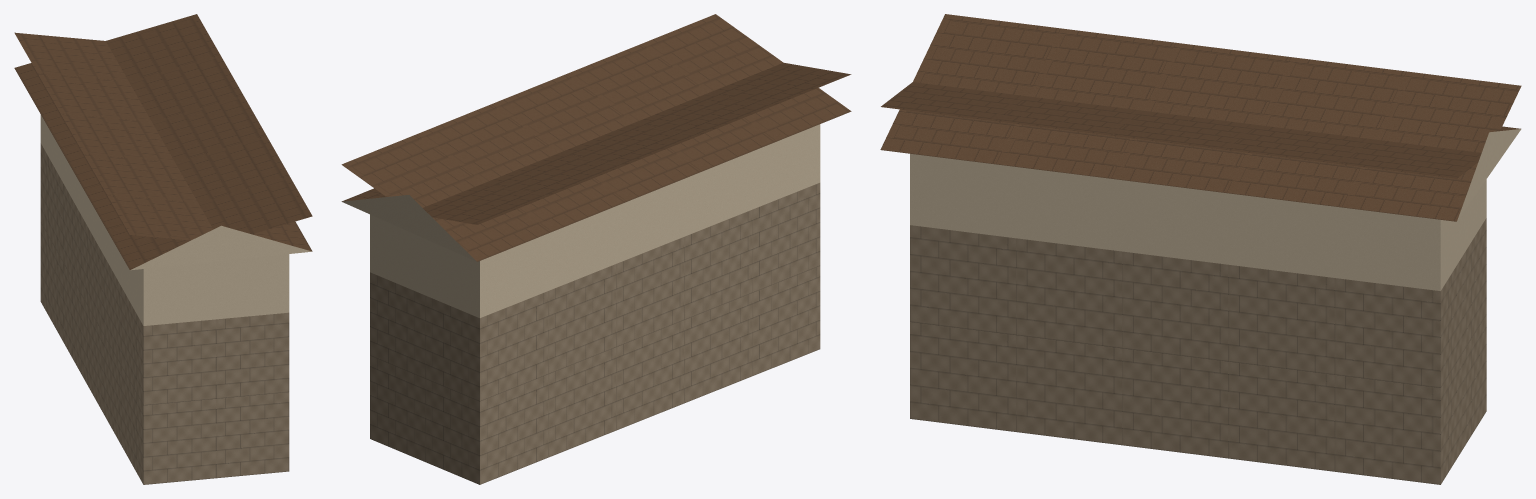
File: bld_c39_-26_415.gltf
3 renders of one model, left to right at view 1: azimuth 30°, elevation 25°; view 2: azimuth 150°, elevation 25°; view 3: azimuth 270°, elevation 25°, orthographic. The views are drawn at different scales.
Parts seen in each view (by area): view 1: bld_c39_-26_415; view 2: bld_c39_-26_415; view 3: bld_c39_-26_415.
Part boxes in pixels (left/top/right/bottom): bld_c39_-26_415: left=14, top=14, right=312, bottom=484; bld_c39_-26_415: left=341, top=14, right=851, bottom=484; bld_c39_-26_415: left=880, top=14, right=1521, bottom=484.
Bounding box in the file's own units: 8.21 × 7.4 × 13.5.
Materials: 4 (4 with a texture image).
